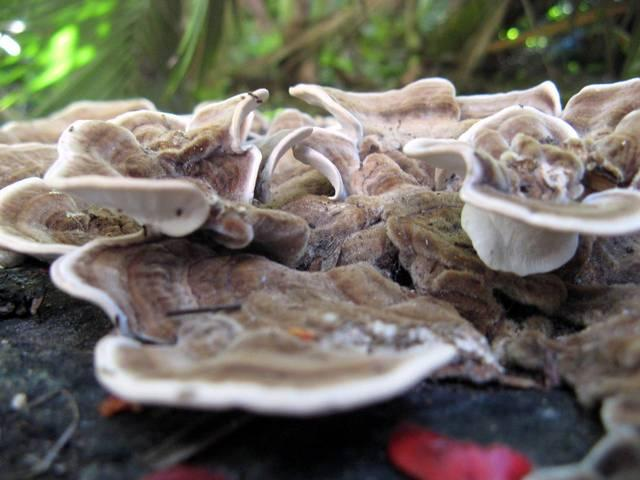poisonous_mushroom: (0, 60, 640, 469)
